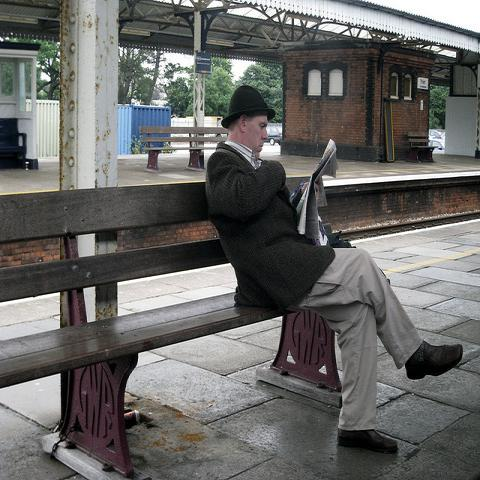car: (266, 126, 283, 146), (428, 139, 446, 151), (429, 129, 442, 140)
